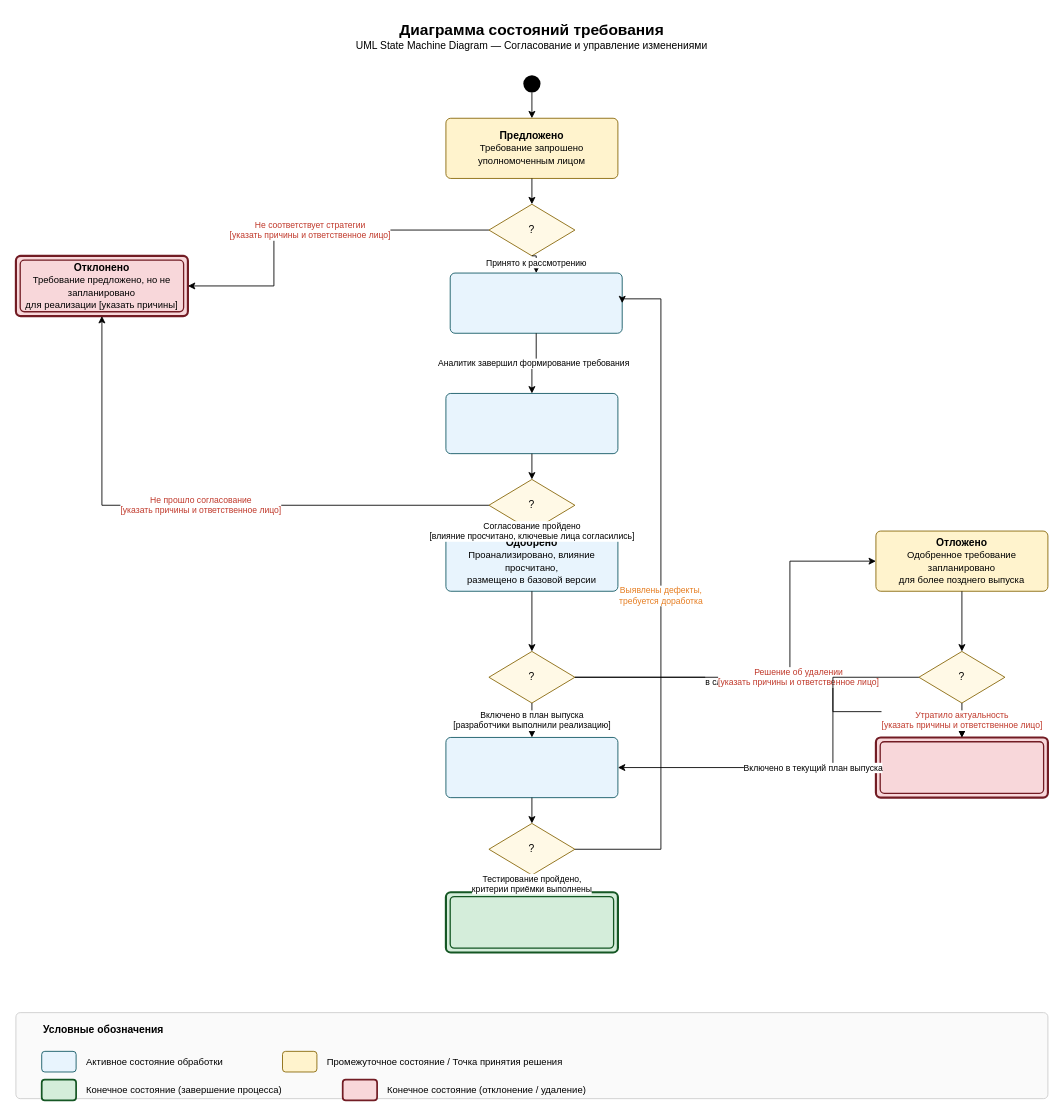
The diagram is 1064 pixels wide and 1115 high, and some of its shapes have lost their labels. Each missing label, with the box of its shape:
Подготовлено Написана начальная версия требования: (445, 393, 618, 454)
Проверено Требование удовлетворяет критериям приёмки, считается завершённым: (444, 891, 619, 953)
Разработка Аналитик активно работает над требованием: (449, 272, 622, 333)
Реализовано Код разработан и протестирован, ПО готово для рецензирования: (445, 737, 618, 798)
Удалено Утверждённое требование удалено из базовой версии [указать причины]: (874, 736, 1049, 798)
